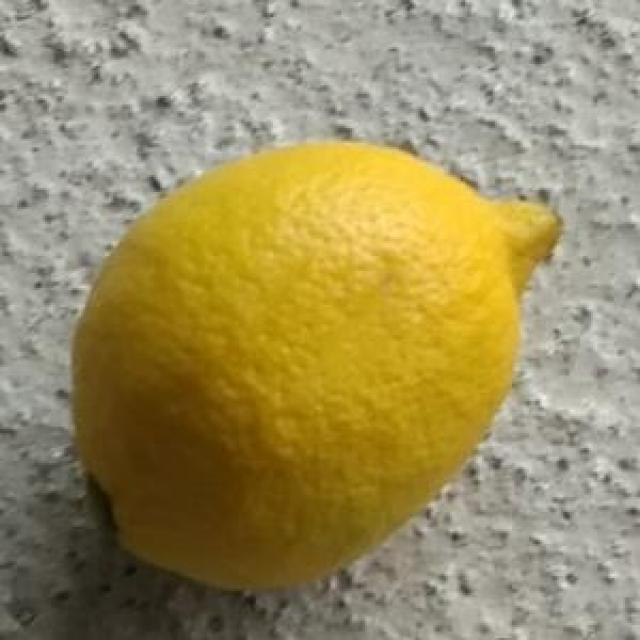lemon: (75, 142, 562, 594)
